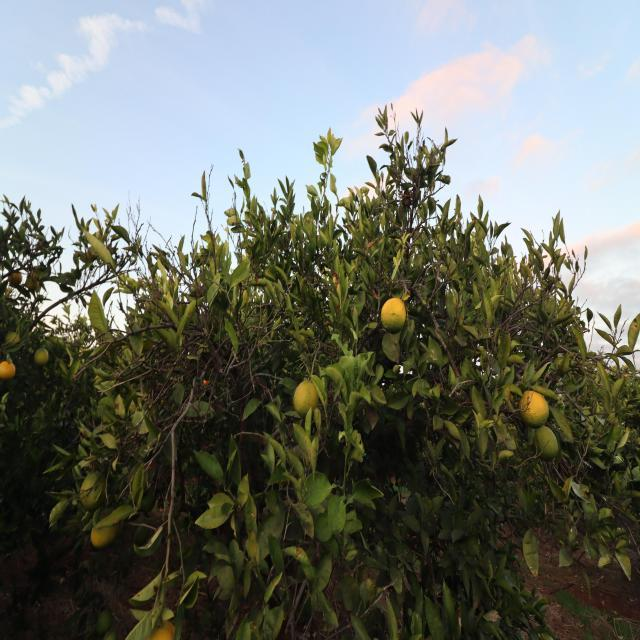Jeruk Belum Matang: (521, 390, 549, 428), (293, 380, 318, 417), (80, 473, 106, 508), (91, 517, 120, 548), (534, 426, 560, 459), (382, 298, 407, 332), (36, 349, 50, 365), (7, 331, 20, 347)
Jeruk Sudah Matang: (148, 618, 176, 640), (0, 362, 17, 380), (8, 271, 20, 290)
